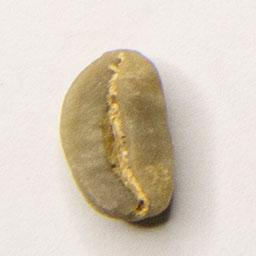longberry: (56, 44, 179, 226)
